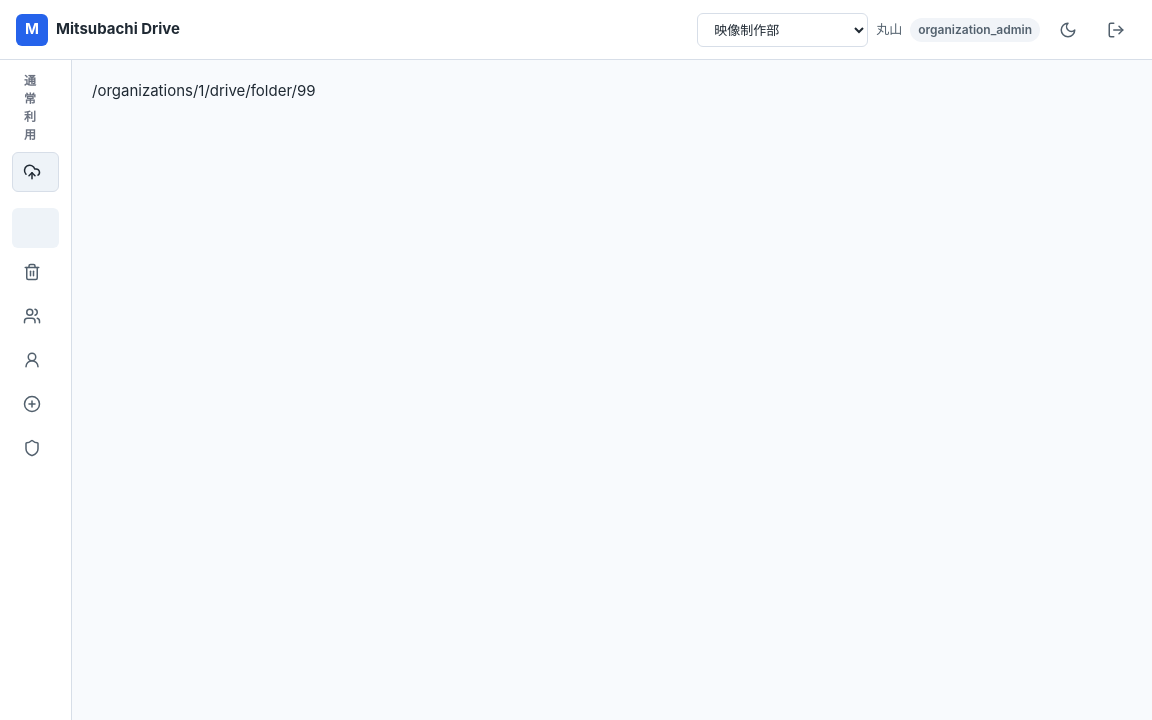
Scenario: AppLayout organization navigation › drops the previous folder id when switching organizations
Select "大学プロジェクト" in the dropdown named "Organizationを切り替え" at {"x": 783, "y": 30}, box [697,12,868,46]
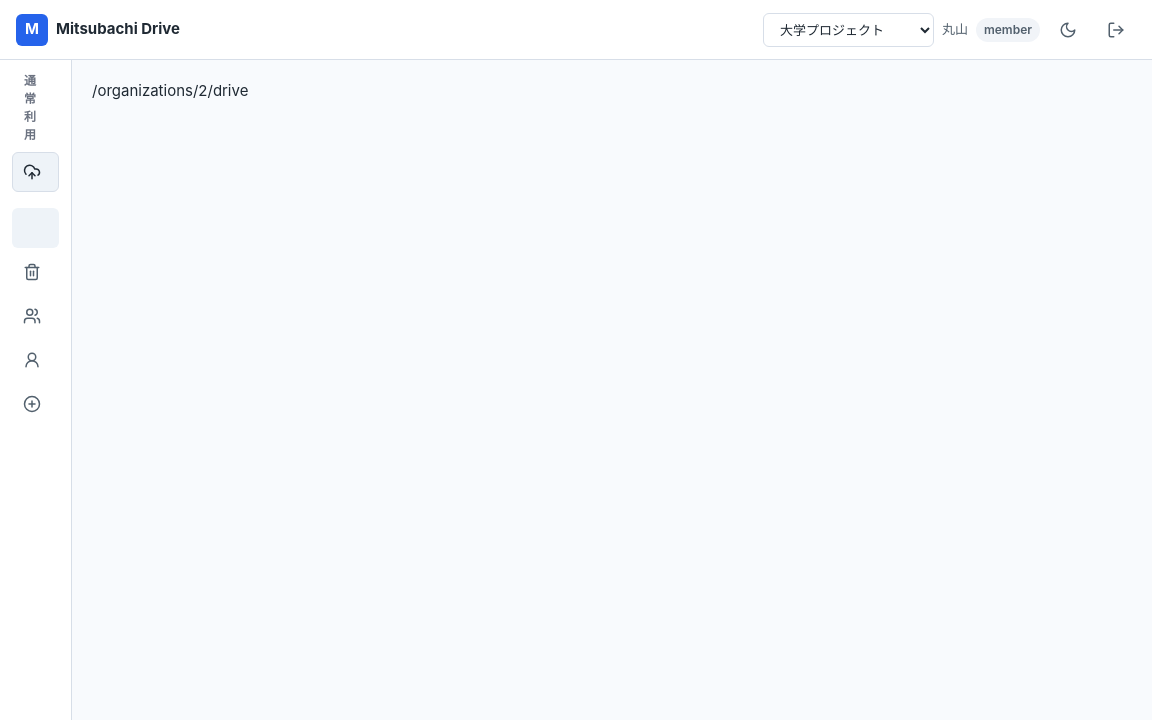
Result: the text with test id "location" reads "/organizations/2/drive" at [92,81,248,100]
Result: the text with test id "location" no longer shows "folder/99" at [92,81,248,100]
